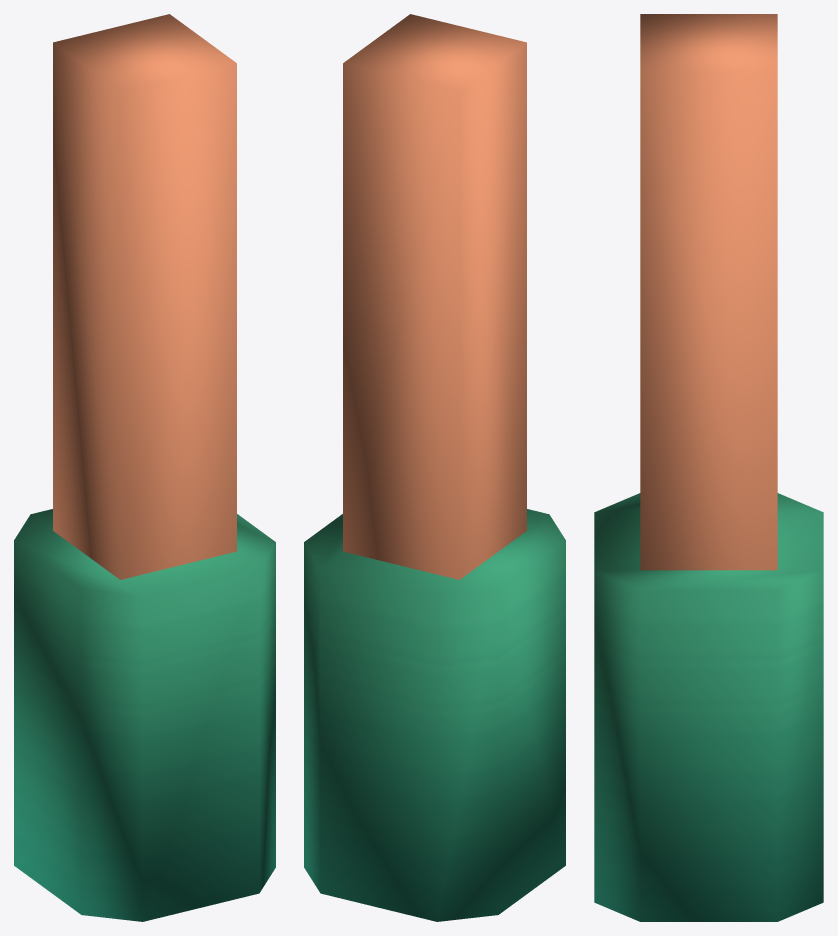
Rendered from cabin-corner-bottom_lev3.glb.
3 views of the same model, side by side, from view 1: azimuth 30°, elevation 25°; view 2: azimuth 150°, elevation 25°; view 3: azimuth 270°, elevation 25° (orthographic). The views are drawn at different scales.
Visible parts, largest first — view 1: cabin-corner-bottom_lev3; view 2: cabin-corner-bottom_lev3; view 3: cabin-corner-bottom_lev3.
Boxes of the visible parts, x1,y1,x2,y2 form: cabin-corner-bottom_lev3: (14,14,275,921); cabin-corner-bottom_lev3: (304,14,565,921); cabin-corner-bottom_lev3: (594,14,823,921).
Size of the model in its own units: 0.25 by 1 by 0.25.
1 material, 1 textured.
